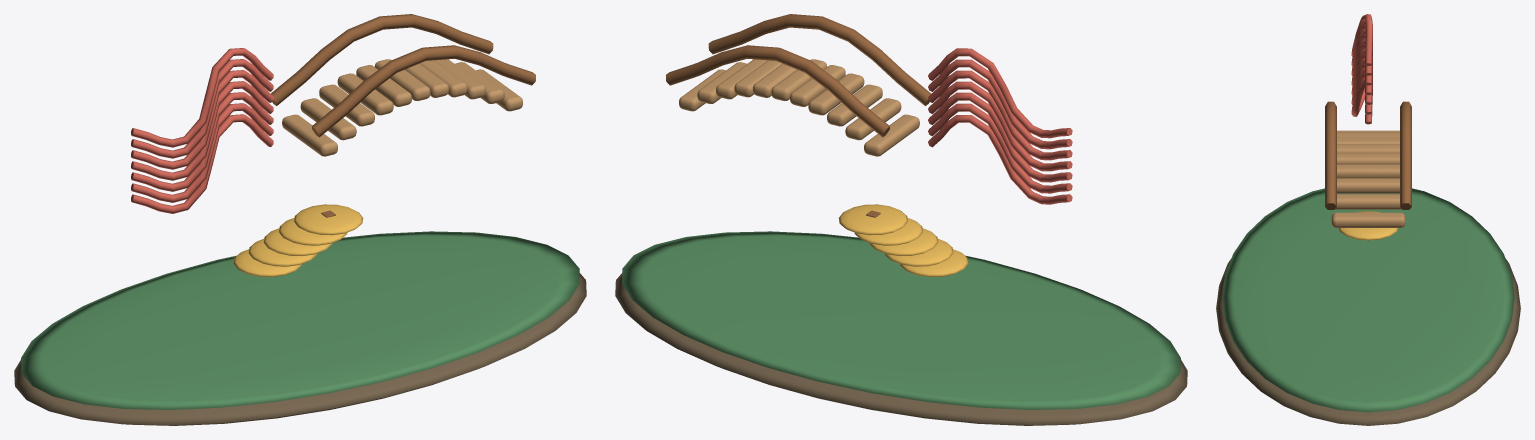
The model's file is complete-second-work-thread-aid.glb.
The picture shows the model from 3 angles, left to right: view 1: azimuth 30°, elevation 25°; view 2: azimuth 150°, elevation 25°; view 3: azimuth 270°, elevation 25°; orthographic projection. The views are drawn at different scales.
Visible parts, largest first — view 1: complete-second-work-thread-aid_surface_01, complete-second-work-thread-aid_surface_02, complete-second-work-thread-aid_surface_00, complete-second-work-thread-aid_surface_03, complete-second-work-thread-aid_surface_04, complete-second-work-thread-aid_surface_05; view 2: complete-second-work-thread-aid_surface_01, complete-second-work-thread-aid_surface_02, complete-second-work-thread-aid_surface_00, complete-second-work-thread-aid_surface_03, complete-second-work-thread-aid_surface_04, complete-second-work-thread-aid_surface_05; view 3: complete-second-work-thread-aid_surface_01, complete-second-work-thread-aid_surface_03, complete-second-work-thread-aid_surface_00, complete-second-work-thread-aid_surface_04, complete-second-work-thread-aid_surface_02, complete-second-work-thread-aid_surface_05.
Part boxes in pixels (box(x1,y1,x2,y2)): complete-second-work-thread-aid_surface_01: box(21, 231, 579, 409); complete-second-work-thread-aid_surface_02: box(131, 48, 273, 213); complete-second-work-thread-aid_surface_00: box(14, 273, 586, 425); complete-second-work-thread-aid_surface_03: box(282, 59, 522, 156); complete-second-work-thread-aid_surface_04: box(271, 14, 535, 217); complete-second-work-thread-aid_surface_05: box(233, 204, 363, 276); complete-second-work-thread-aid_surface_01: box(622, 231, 1180, 409); complete-second-work-thread-aid_surface_02: box(928, 48, 1072, 204); complete-second-work-thread-aid_surface_00: box(615, 273, 1187, 425); complete-second-work-thread-aid_surface_03: box(679, 59, 919, 156); complete-second-work-thread-aid_surface_04: box(666, 14, 930, 217); complete-second-work-thread-aid_surface_05: box(838, 204, 968, 276); complete-second-work-thread-aid_surface_01: box(1222, 188, 1514, 412); complete-second-work-thread-aid_surface_03: box(1331, 130, 1405, 227); complete-second-work-thread-aid_surface_00: box(1216, 258, 1520, 425); complete-second-work-thread-aid_surface_04: box(1325, 101, 1411, 209); complete-second-work-thread-aid_surface_02: box(1351, 14, 1372, 124); complete-second-work-thread-aid_surface_05: box(1338, 211, 1398, 240).
Size of the model in its own units: 4.56 by 2.53 by 2.5.
